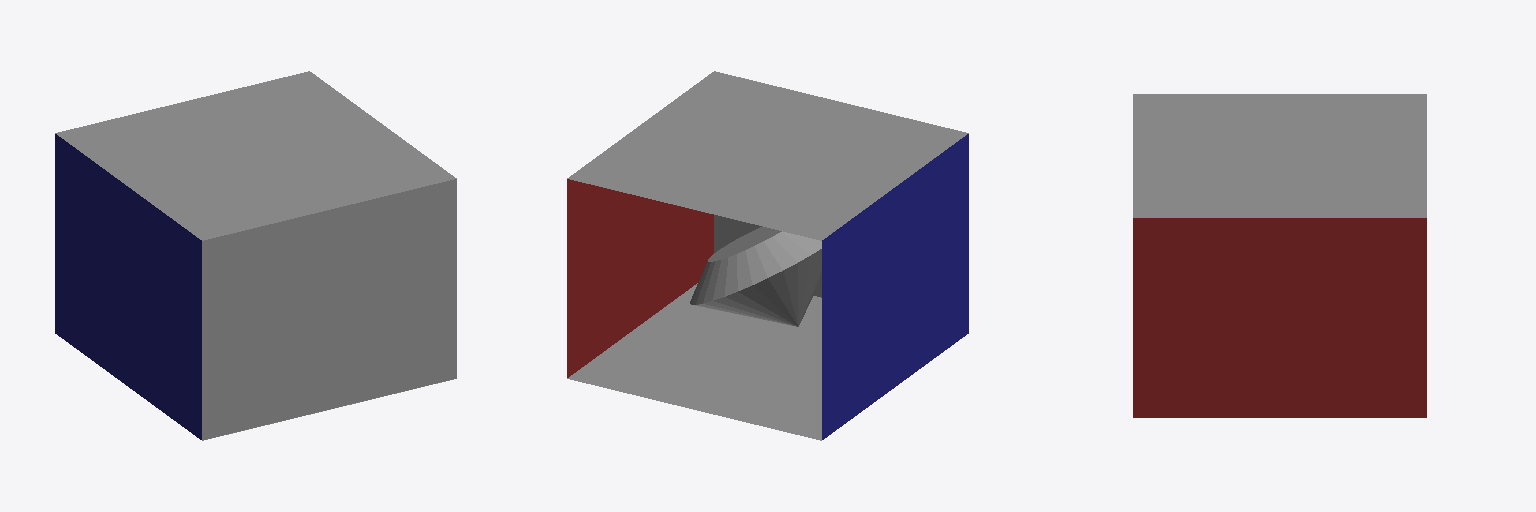
Rendered from CBPrism_diamond.obj.
The picture shows the model from 3 angles: view 1: azimuth 30°, elevation 25°; view 2: azimuth 150°, elevation 25°; view 3: azimuth 270°, elevation 25°; orthographic projection.
Parts seen in each view (by area): view 1: backWall, ceiling, rightWall; view 2: ceiling, rightWall, floor, leftWall, Diamond, backWall; view 3: leftWall, ceiling.
Boxes of the visible parts, <box> form: backWall: <box>202,179,456,440</box>; ceiling: <box>55,71,456,240</box>; rightWall: <box>55,134,201,439</box>; ceiling: <box>567,71,968,240</box>; rightWall: <box>822,134,968,439</box>; floor: <box>567,283,821,440</box>; leftWall: <box>567,179,713,377</box>; Diamond: <box>690,226,821,326</box>; backWall: <box>714,215,821,297</box>; leftWall: <box>1133,218,1426,417</box>; ceiling: <box>1133,94,1426,217</box>.
Size of the model in its own units: 2 by 1.5 by 2.